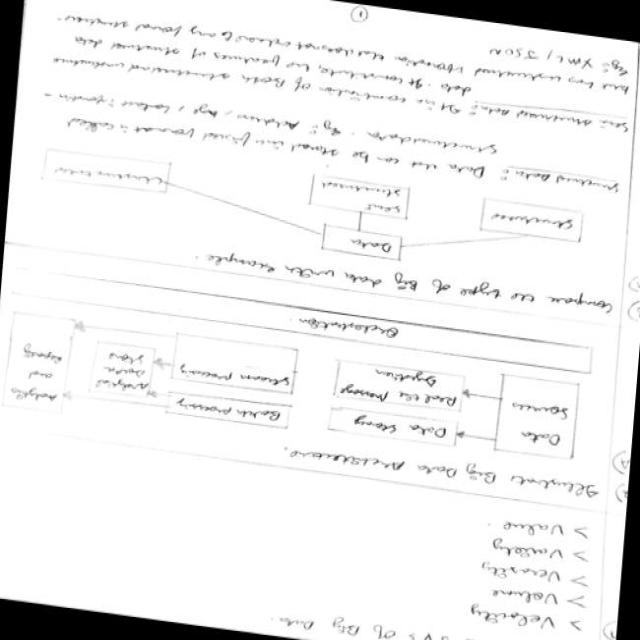Figure Detection - v3 Dataset Version2: (0, 254, 607, 502), (24, 125, 604, 296)
